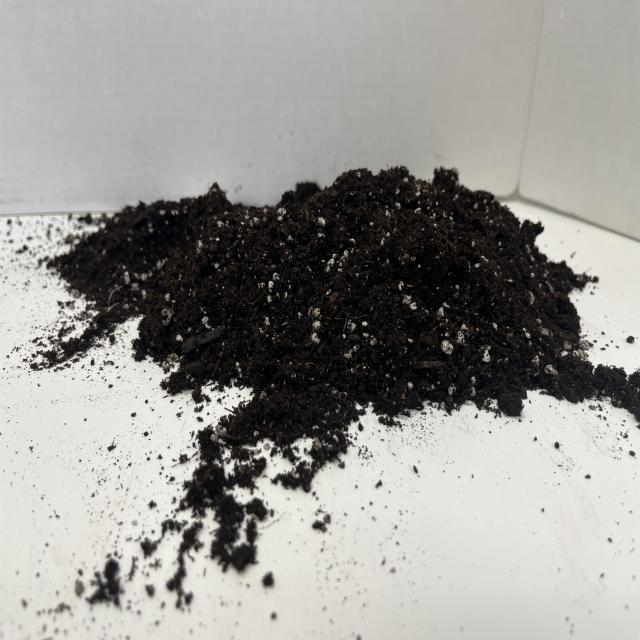soil: (39, 161, 636, 458)
